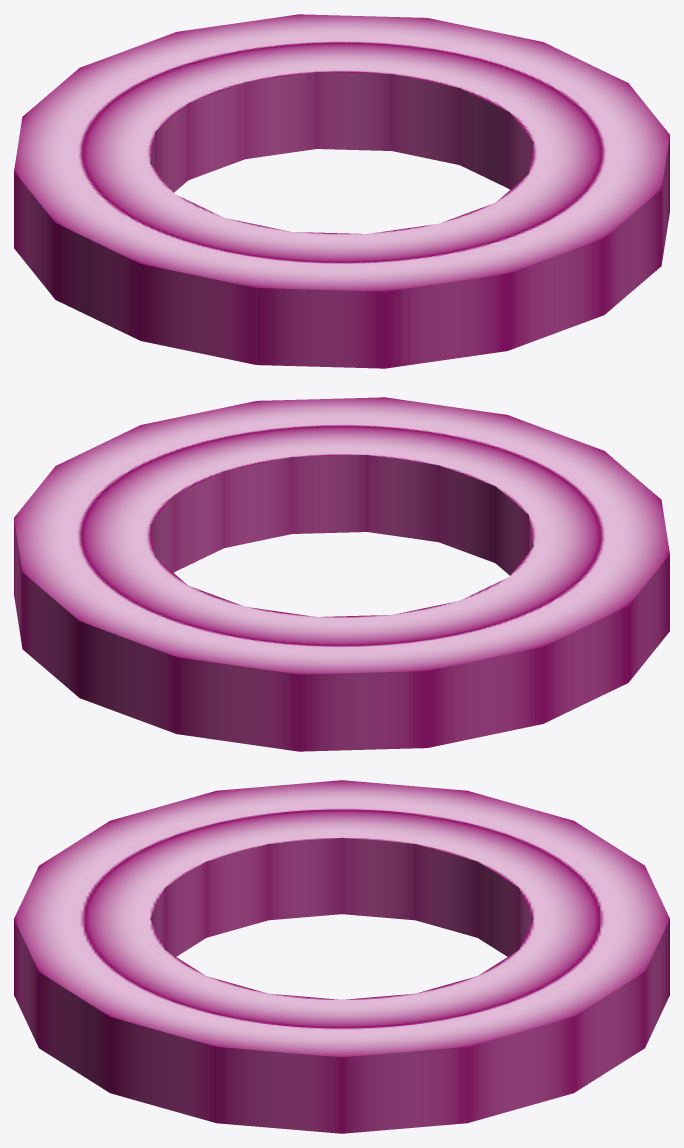
File: Onion_01_Ready_02.fbx
The picture shows the model from 3 angles, top to bottom: view 1: azimuth 30°, elevation 25°; view 2: azimuth 150°, elevation 25°; view 3: azimuth 270°, elevation 25°; orthographic projection.
Parts seen in each view (by area): view 1: Onion_01_Ready_02; view 2: Onion_01_Ready_02; view 3: Onion_01_Ready_02.
Part boxes in pixels (<box>): Onion_01_Ready_02: <box>14,14,669,368</box>; Onion_01_Ready_02: <box>14,397,669,751</box>; Onion_01_Ready_02: <box>14,780,669,1133</box>.
Size of the model in its own units: 31.43 by 4.04 by 31.43.
